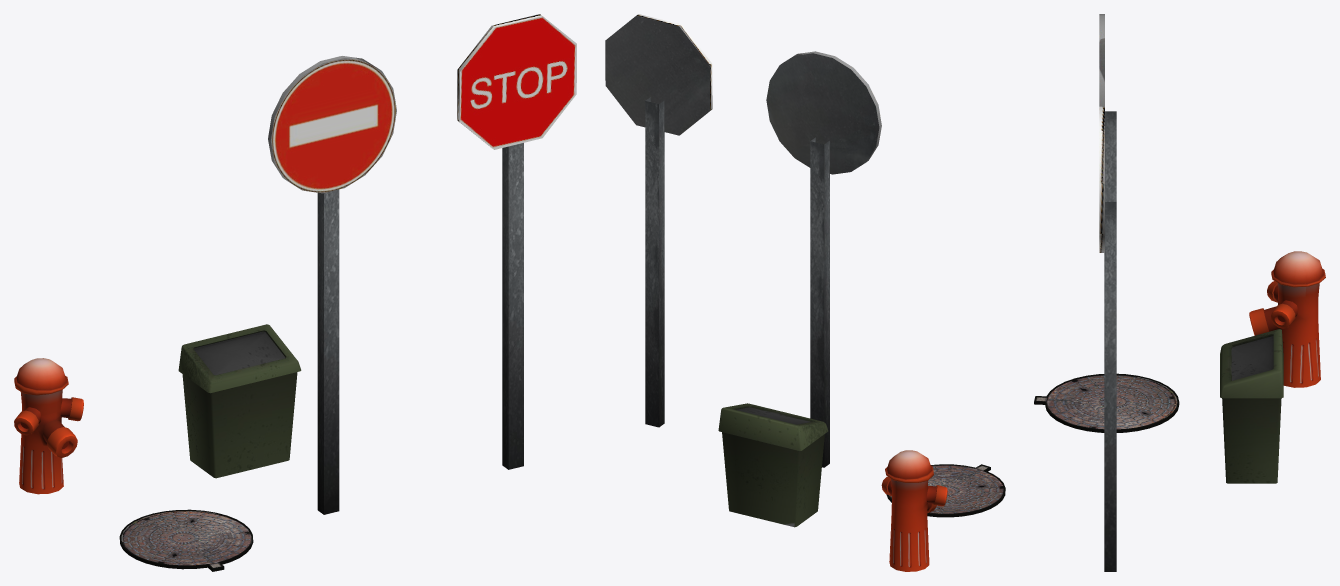
Rendered from Objets_Divers.FBX.
3 views of the same model, side by side, from view 1: azimuth 30°, elevation 25°; view 2: azimuth 150°, elevation 25°; view 3: azimuth 270°, elevation 25° (orthographic). The views are drawn at different scales.
Parts seen in each view (by area): view 1: Box001 (×2), Box002, Bouche_Incendie, Cylinder001; view 2: Box001 (×2), Box002, Bouche_Incendie, Cylinder001; view 3: Box001 (×2), Bouche_Incendie, Cylinder001, Box002.
Part boxes in pixels (x1=…): Box001 (×2): x1=178, y1=56, x2=396, y2=514; Box002: x1=457, y1=14, x2=576, y2=469; Bouche_Incendie: x1=14, y1=358, x2=83, y2=494; Cylinder001: x1=119, y1=509, x2=253, y2=571; Box001 (×2): x1=718, y1=51, x2=881, y2=527; Box002: x1=605, y1=14, x2=712, y2=427; Bouche_Incendie: x1=881, y1=450, x2=947, y2=571; Cylinder001: x1=886, y1=464, x2=1005, y2=517; Box001 (×2): x1=1099, y1=14, x2=1283, y2=483; Bouche_Incendie: x1=1249, y1=251, x2=1325, y2=387; Cylinder001: x1=1034, y1=373, x2=1179, y2=432; Box002: x1=1099, y1=106, x2=1116, y2=571.
Bounding box in the file's own units: 4.04 × 3.73 × 2.16.
